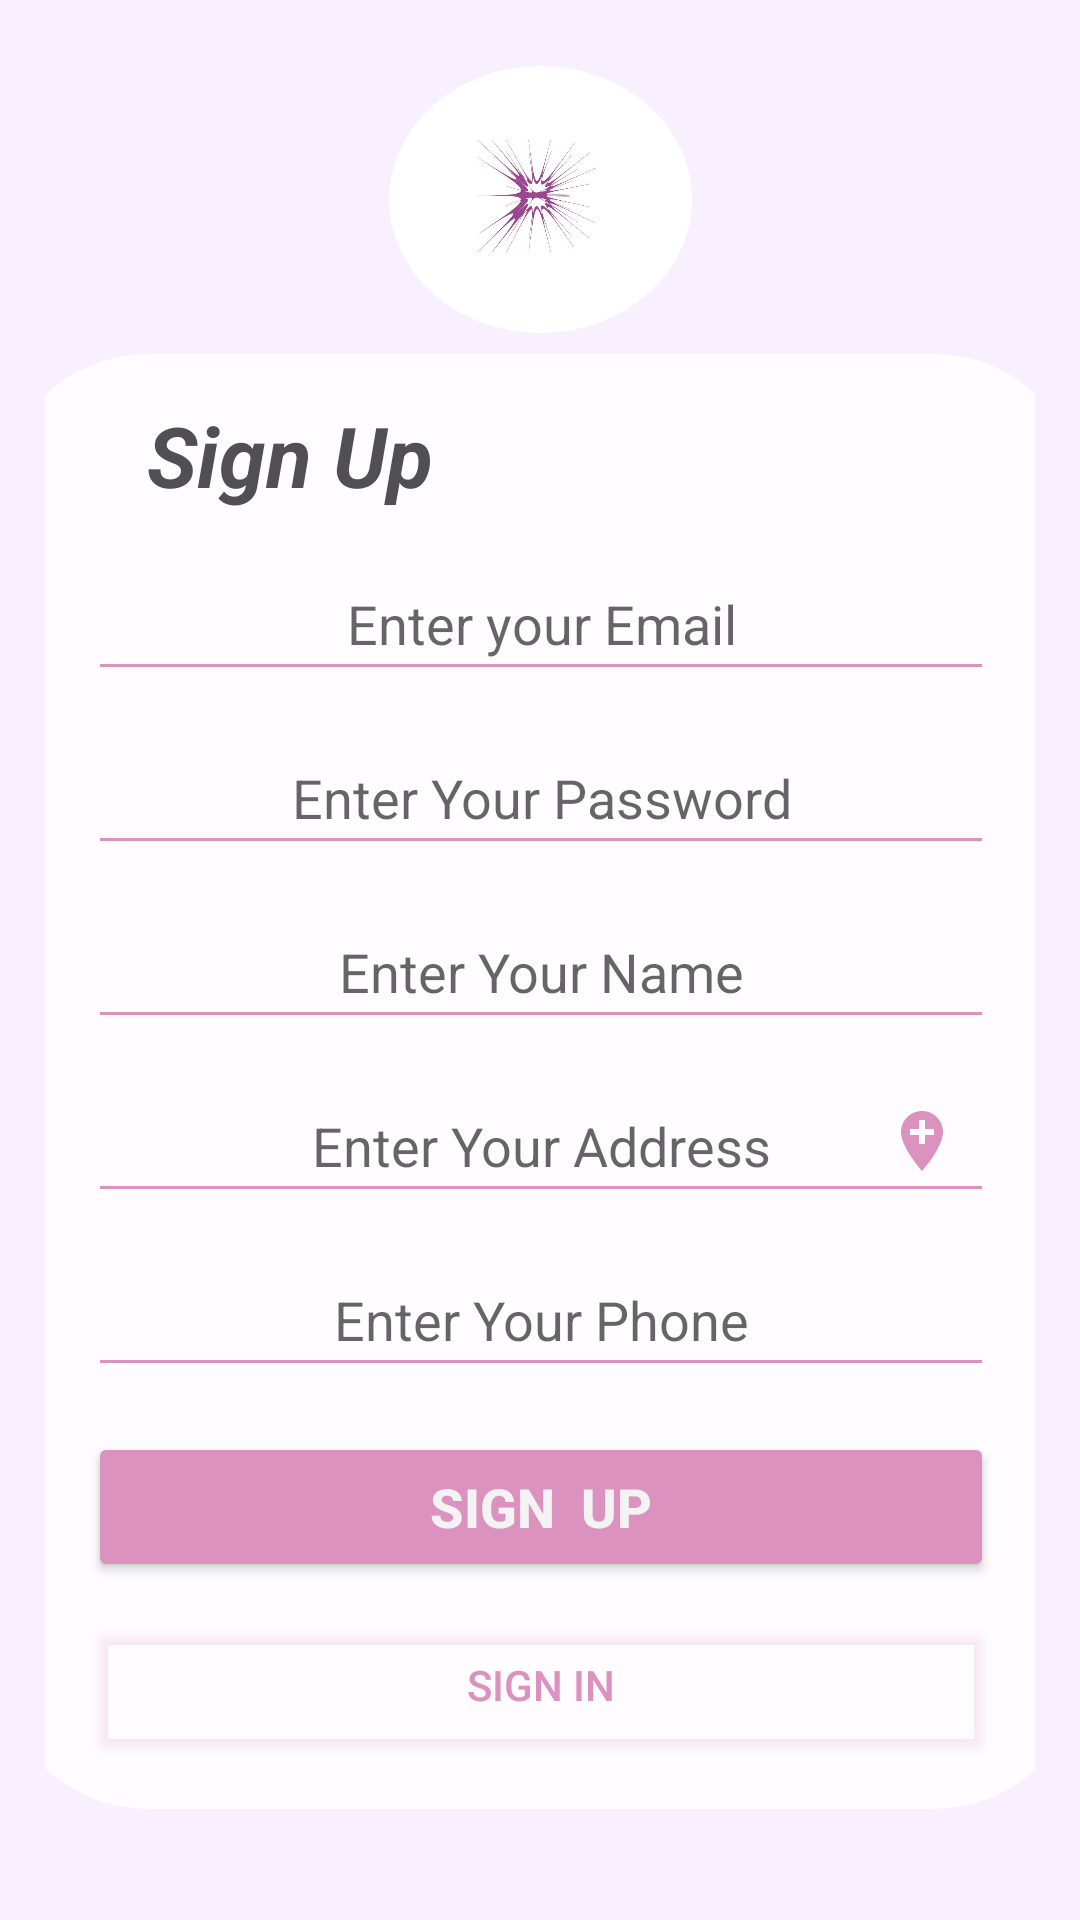

Icon click points for this 1080 × 1920 phone screenshot, format (x,y):
add location: (922,1141)
